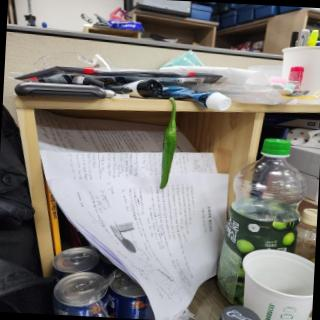Cabai Hijau: (151, 90, 184, 195)
